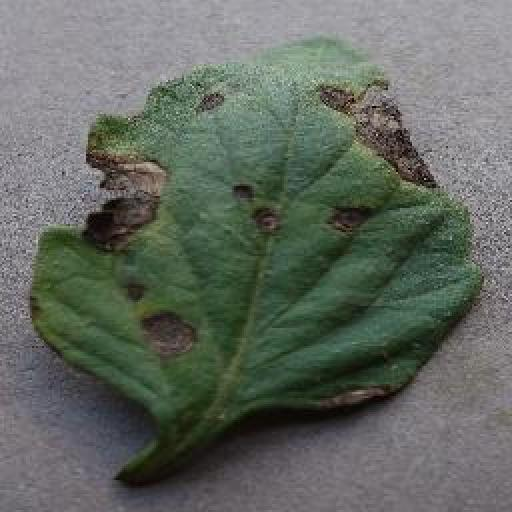disease_tomato: (33, 33, 484, 427)
